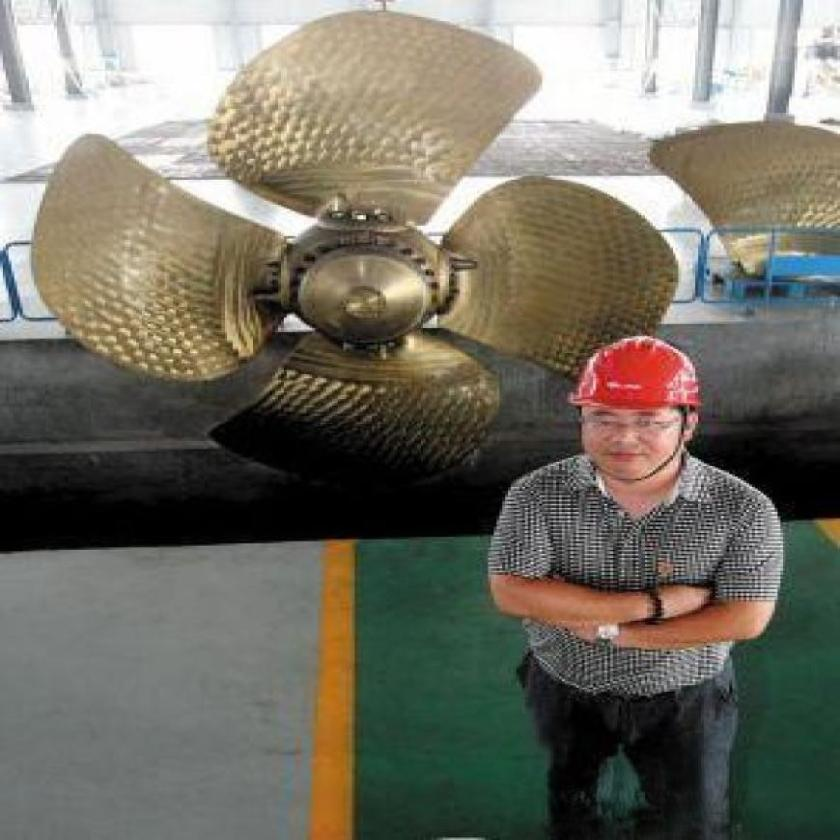Con_casco: (572, 327, 707, 494)
